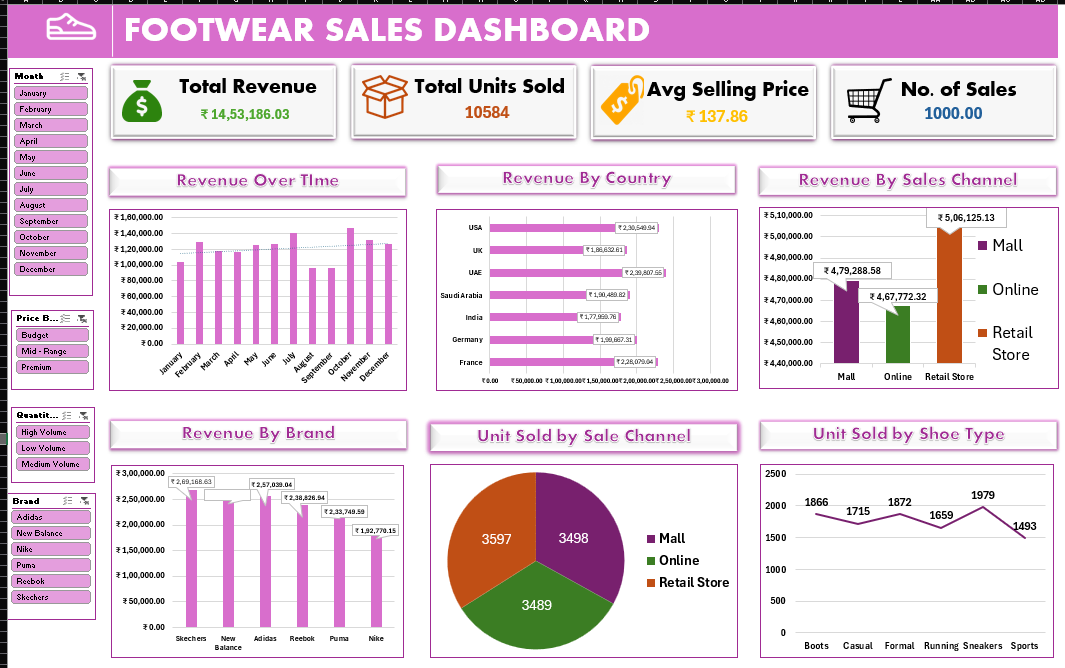

The page's visual inventory and layout, read from the dashboard file:
{"tool":"powerbi","page":{"name":"Page 1","canvas":[1280,720],"ordinal":0},"visuals":[{"type":"shape","box":[0,0,1280,106.7],"z":0},{"type":"shape","box":[488.9,114,263.7,138],"z":0,"group":"g1"},{"type":"textbox","box":[357.5,27.5,587.5,72.5],"z":1000},{"type":"shape","box":[752.6,115.2,263.7,138],"z":1000,"group":"g1"},{"type":"textbox","box":[21.8,44.5,303.6,31.8],"z":2000},{"type":"shape","box":[1016.3,115.2,263.7,138],"z":2000,"group":"g1"},{"type":"textbox","box":[946.4,44.5,333.6,31.8],"z":3000},{"type":"cardVisual","title":"AVG Selling Price","fields":{"Data":["Sum(sql_project shoes_sales_dataset.Price_USD)"]},"box":[773.6,126.2,226.3,113],"z":3000,"group":"g1"},{"type":"group","id":"g1","title":"Group 1","box":[226,114,1054,140],"z":4000},{"type":"cardVisual","title":"Total Units Sold","fields":{"Data":["Sum(sql_project shoes_sales_dataset.Units_Sold)"]},"box":[523.5,133.8,199.9,109.7],"z":4000,"group":"g1"},{"type":"cardVisual","title":"Total Sales","fields":{"Data":["Count(sql_project shoes_sales_dataset.Sale_ID)"]},"box":[1049.7,132.1,198.1,111.1],"z":5000,"group":"g1"},{"type":"image","box":[474.3,162.9,177.1,54.3],"z":5000},{"type":"shape","box":[226,115.4,262.9,138.6],"z":6000,"group":"g1"},{"type":"donutChart","fields":{"Category":["sql_project shoes_sales_dataset.Price_band"],"Y":["Sum(sql_project shoes_sales_dataset.Revenue_USD)"]},"box":[736,268,544,232],"z":6000},{"type":"cardVisual","title":"Total Revenue","fields":{"Data":["Sum(sql_project shoes_sales_dataset.Revenue_USD)"]},"box":[257.9,133.5,199.9,113.7],"z":7000,"group":"g1"},{"type":"lineChart","fields":{"Category":["sql_project shoes_sales_dataset.Date.Variation.Date Hierarchy.Month"],"Y":["Sum(sql_project shoes_sales_dataset.Revenue_USD)"]},"box":[737.1,482.9,542.9,237.1],"z":7000},{"type":"columnChart","title":"Revenue by Country","fields":{"Y":["Sum(sql_project shoes_sales_dataset.Revenue_USD)"],"Category":["sql_project shoes_sales_dataset.Country"],"Series":["sql_project shoes_sales_dataset.Country"]},"box":[228,268,494,452],"z":8000},{"type":"slicer","fields":{"Values":["sql_project shoes_sales_dataset.Brand"]},"box":[10,127.1,195.7,212.9],"z":9000},{"type":"slicer","fields":{"Values":["sql_project shoes_sales_dataset.Shoe_Type"]},"box":[8.6,332.9,155.7,212.9],"z":10000},{"type":"slicer","fields":{"Values":["sql_project shoes_sales_dataset.Sales_Channel"]},"box":[8.6,545.7,138.6,141.4],"z":11000},{"type":"image","box":[1074.4,164.4,52.2,70],"z":12000},{"type":"image","box":[238.8,175,77.5,48.8],"z":13000},{"type":"image","box":[782.7,152.7,48.2,66.4],"z":14000}]}

Visuals, with their boxes in screenshot pixels (x1, y1, x2, y2):
shape: x1=0, y1=0, x2=1050, y2=85
shape: x1=401, y1=91, x2=618, y2=204
textbox: x1=293, y1=20, x2=775, y2=79
shape: x1=618, y1=92, x2=834, y2=205
textbox: x1=18, y1=34, x2=267, y2=60
shape: x1=834, y1=92, x2=1050, y2=205
textbox: x1=777, y1=34, x2=1050, y2=60
"AVG Selling Price" cardVisual: x1=635, y1=101, x2=820, y2=194
"Group 1" group: x1=185, y1=91, x2=1050, y2=206
"Total Units Sold" cardVisual: x1=430, y1=107, x2=594, y2=197
"Total Sales" cardVisual: x1=861, y1=106, x2=1024, y2=197
image: x1=389, y1=131, x2=534, y2=175
shape: x1=185, y1=92, x2=401, y2=206
donutChart - sql_project shoes_sales_dataset.Price_band x Sum(sql_project shoes_sales_dataset.Revenue_USD): x1=604, y1=217, x2=1050, y2=407
"Total Revenue" cardVisual: x1=212, y1=107, x2=376, y2=200
lineChart - sql_project shoes_sales_dataset.Date.Variation.Date Hierarchy.Month x Sum(sql_project shoes_sales_dataset.Revenue_USD): x1=605, y1=393, x2=1050, y2=588
"Revenue by Country" columnChart: x1=187, y1=217, x2=592, y2=588
slicer - sql_project shoes_sales_dataset.Brand: x1=8, y1=102, x2=169, y2=276
slicer - sql_project shoes_sales_dataset.Shoe_Type: x1=7, y1=270, x2=135, y2=445
slicer - sql_project shoes_sales_dataset.Sales_Channel: x1=7, y1=445, x2=121, y2=561
image: x1=882, y1=132, x2=924, y2=190
image: x1=196, y1=141, x2=260, y2=181
image: x1=642, y1=123, x2=682, y2=177
